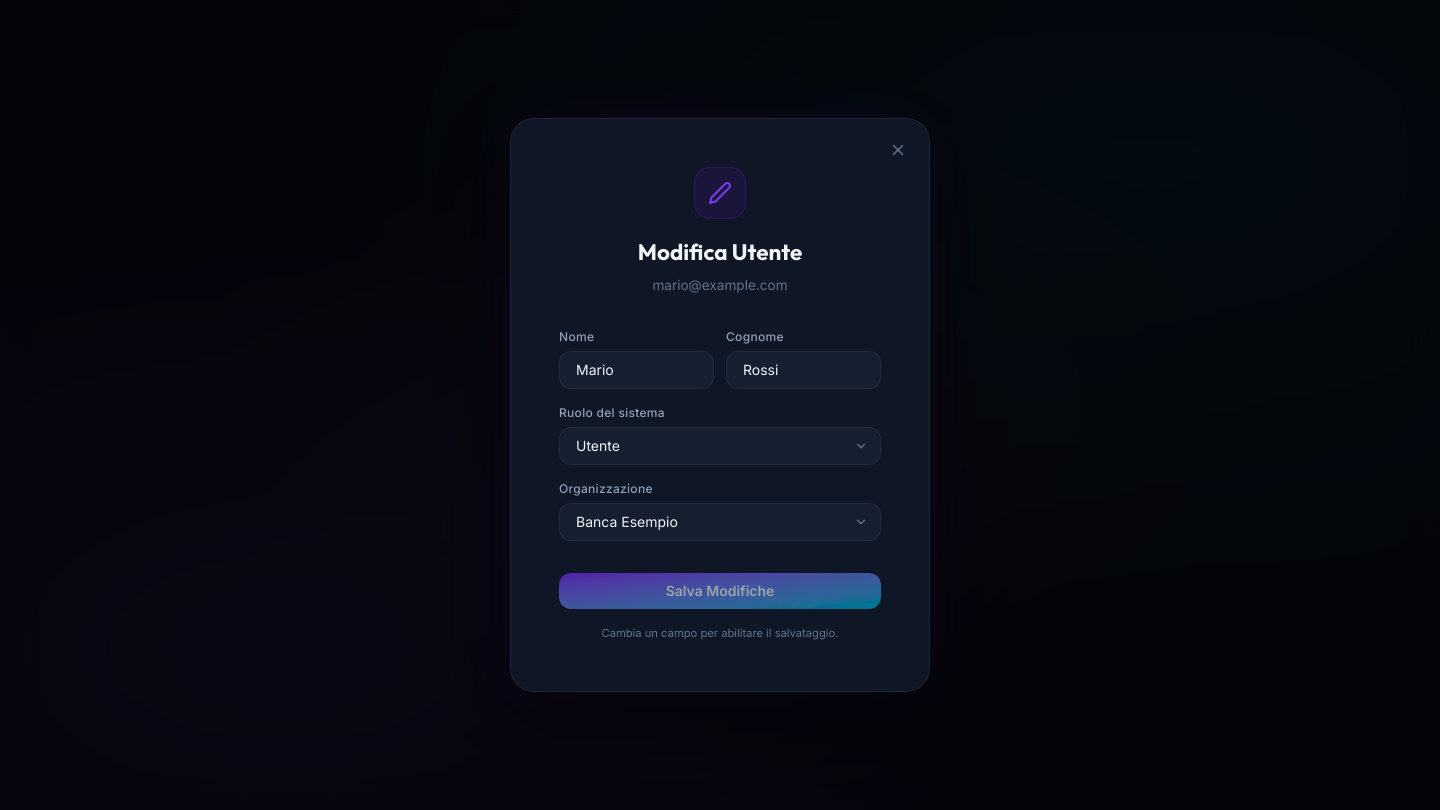
UserEditModal › abilita il salvataggio appena un campo cambia
Type "ne" into the field labelled "Nome".
click(681, 370); type("ne")  # box [576,352,786,388]
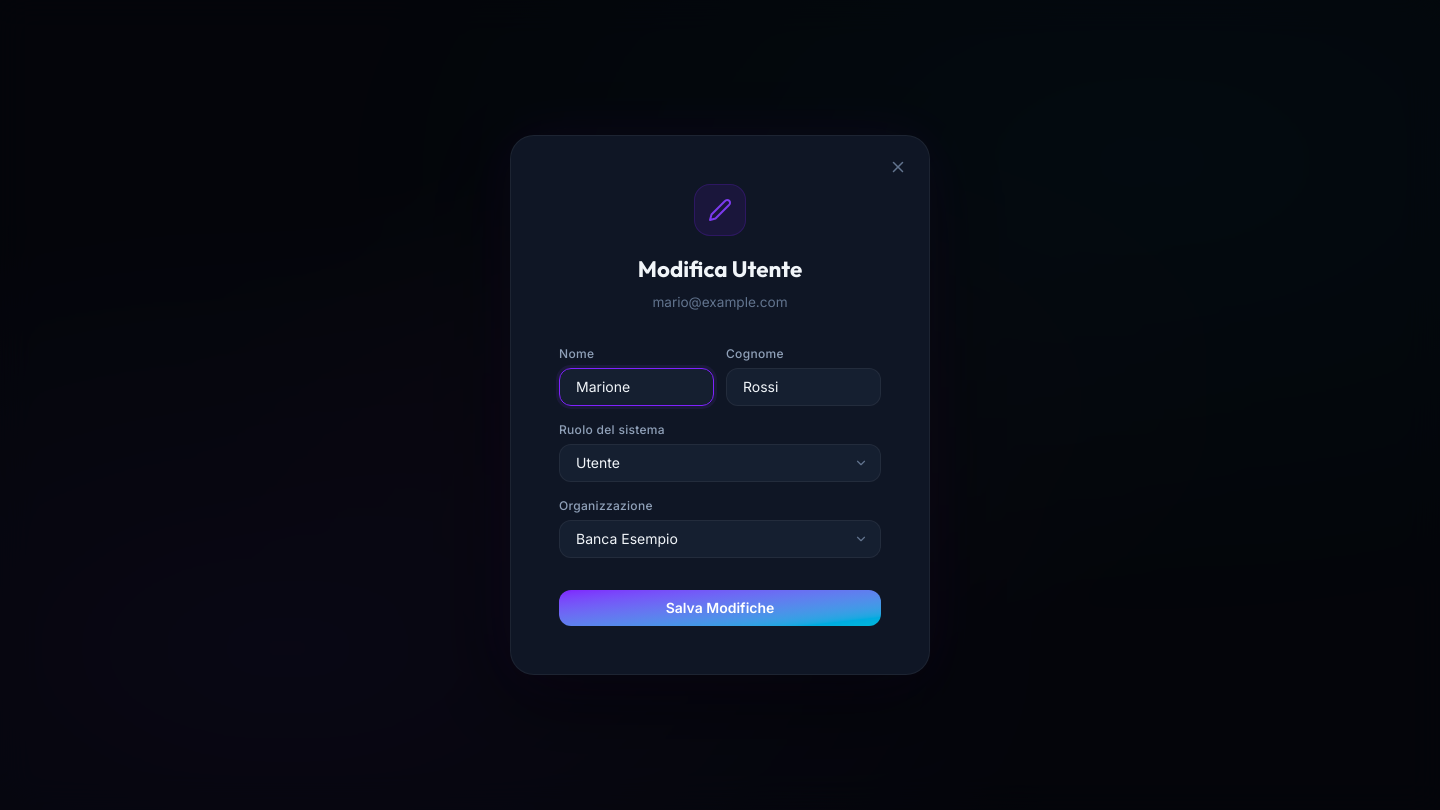
Result: the button "Salva Modifiche" is enabled at [559,590,881,626]
Result: the text "Cambia un campo per abilitare il salvataggio." is gone
